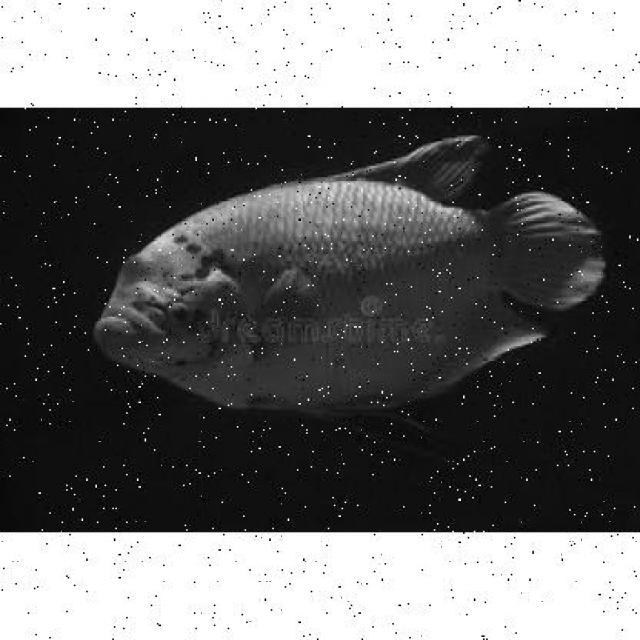gurame: (101, 146, 601, 426)
